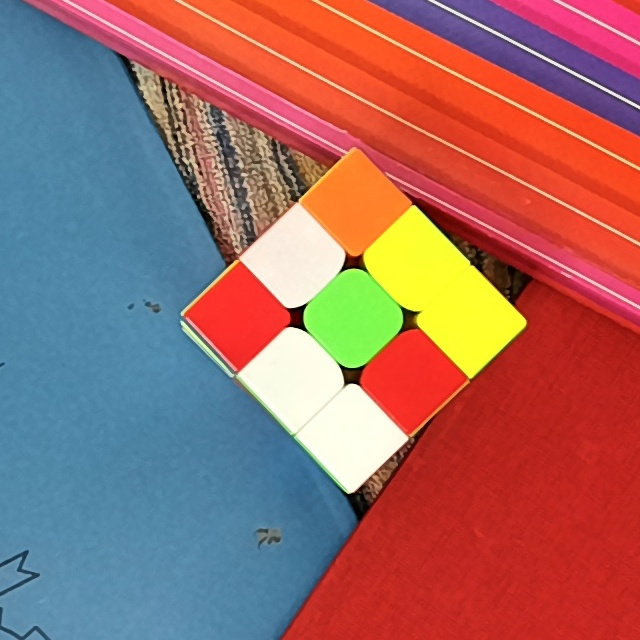tile: (325, 290, 380, 347), (326, 178, 383, 232), (266, 349, 320, 404), (269, 232, 325, 284), (385, 350, 436, 406), (445, 295, 495, 351), (214, 288, 263, 344), (391, 233, 443, 285), (326, 409, 375, 463)
